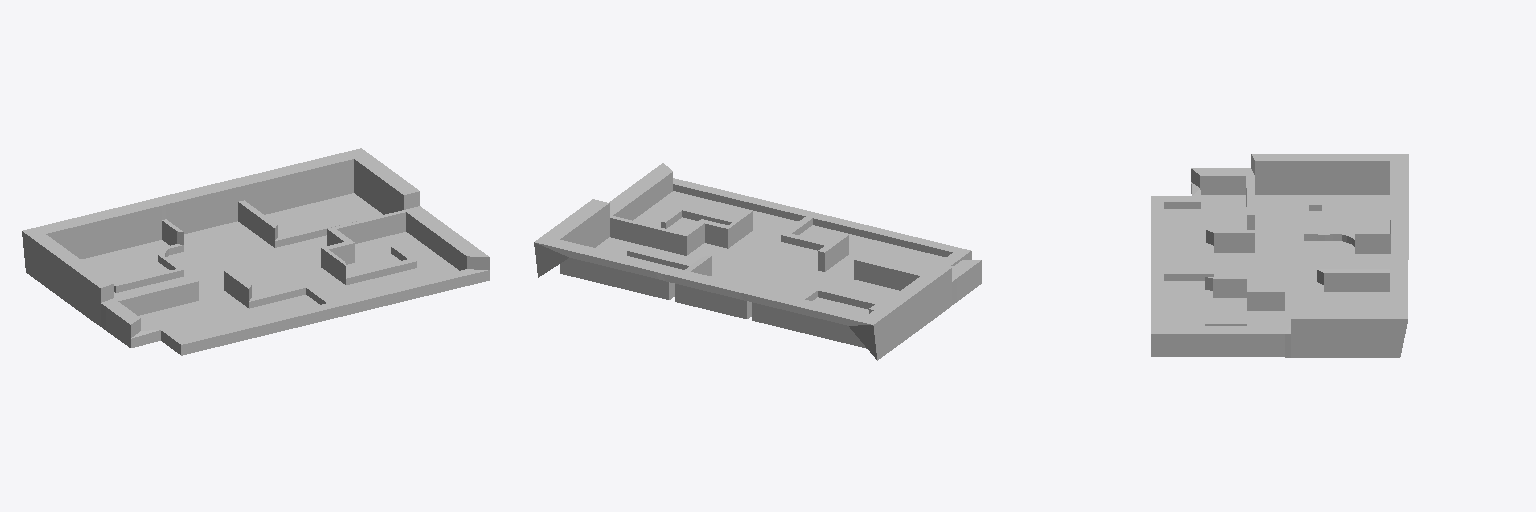
The model's file is malllayoutwall.obj.
The picture shows the model from 3 angles: view 1: azimuth 30°, elevation 25°; view 2: azimuth 150°, elevation 25°; view 3: azimuth 270°, elevation 25°; orthographic projection.
Parts seen in each view (by area): view 1: Plane; view 2: Plane; view 3: Plane.
Part boxes in pixels (bbox=[...]): Plane: bbox=[22, 148, 489, 355]; Plane: bbox=[534, 163, 981, 360]; Plane: bbox=[1151, 154, 1408, 357].
Bounding box in the file's own units: 92.94 × 10.17 × 61.16.